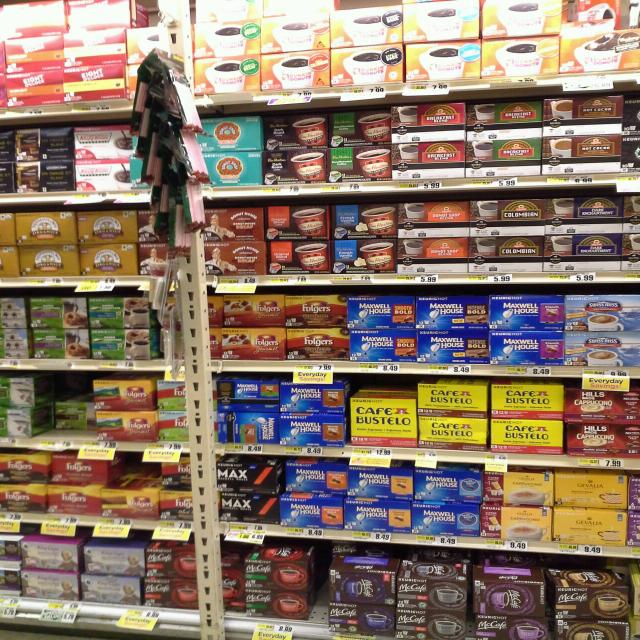unorganised: (416, 381, 491, 452), (82, 542, 144, 578), (21, 538, 80, 572), (217, 414, 277, 446), (51, 399, 94, 436)
